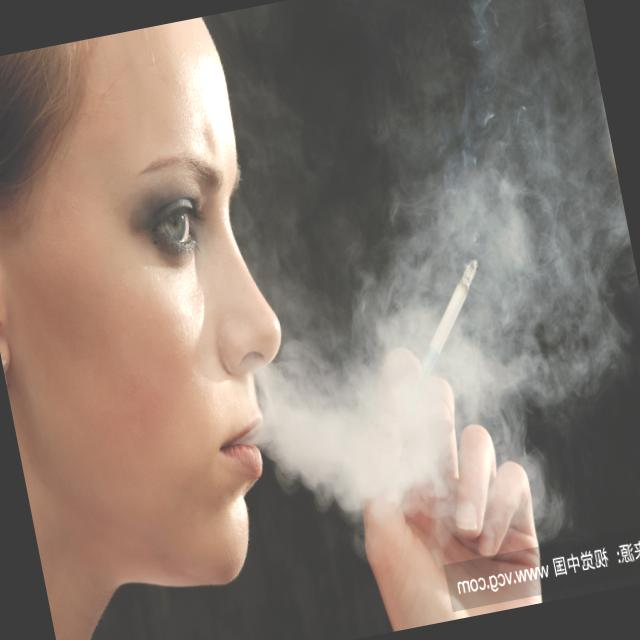cigarette: (382, 249, 515, 399)
